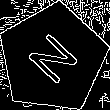N_SE: (21, 26, 85, 91)
